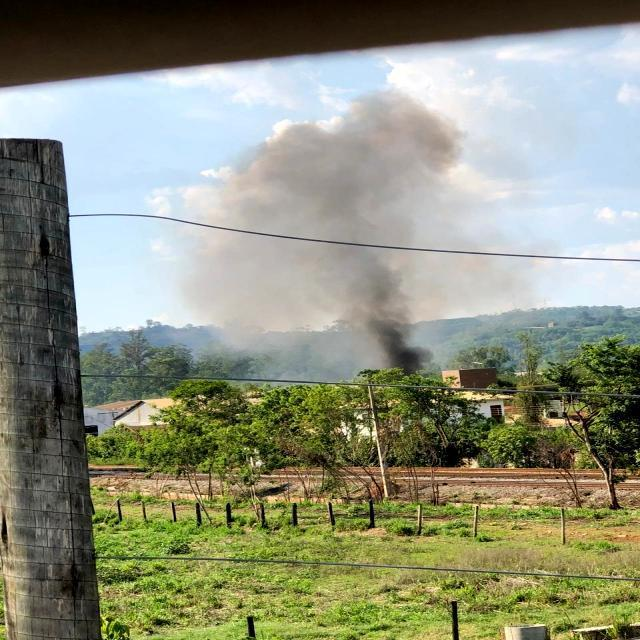Smoke: (190, 91, 500, 377)
